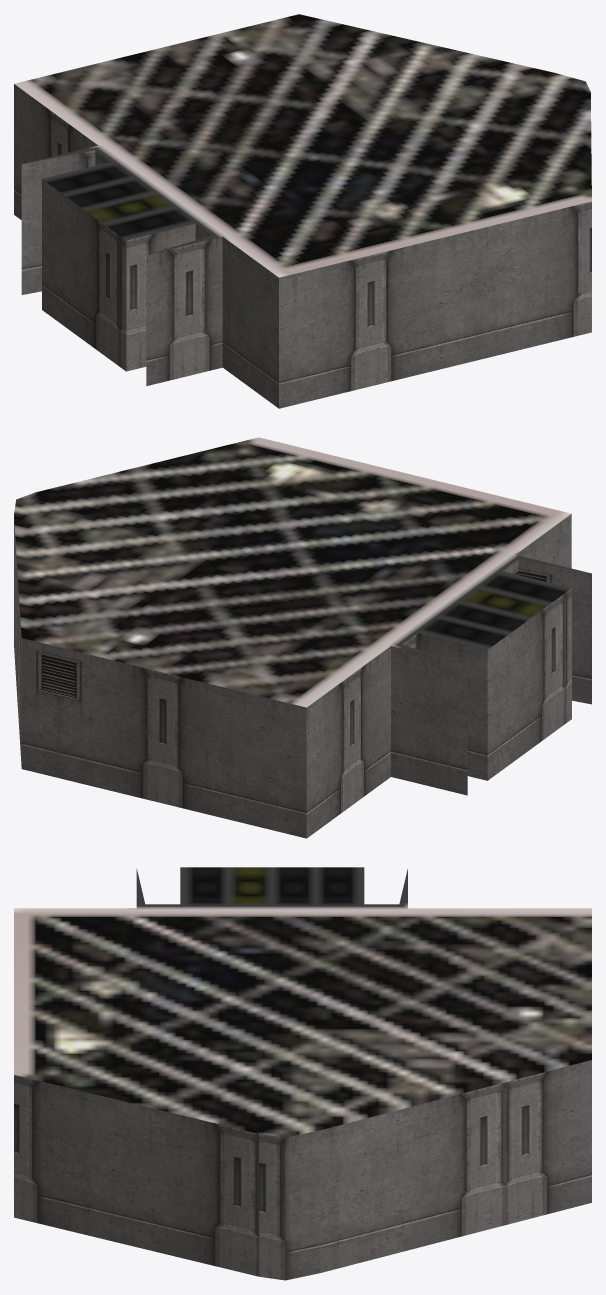
Rendered from BuildingSystem-03-Advance-04-ReinforcedLow-M-110-02.glb.
The picture shows the model from 3 angles, top to bottom: view 1: azimuth 30°, elevation 25°; view 2: azimuth 150°, elevation 25°; view 3: azimuth 270°, elevation 25°; orthographic projection. The views are drawn at different scales.
Parts seen in each view (by area): view 1: buildings/saxarba/SMV_Buildings/BuildingSystem-03-Advance-04; view 2: buildings/saxarba/SMV_Buildings/BuildingSystem-03-Advance-04; view 3: buildings/saxarba/SMV_Buildings/BuildingSystem-03-Advance-04.
Part boxes in pixels (x1,y1,x2,y2): buildings/saxarba/SMV_Buildings/BuildingSystem-03-Advance-04: (14,14,591,408); buildings/saxarba/SMV_Buildings/BuildingSystem-03-Advance-04: (14,437,591,838); buildings/saxarba/SMV_Buildings/BuildingSystem-03-Advance-04: (14,867,591,1280).
Bounding box in the file's own units: 73 × 18 × 66.
